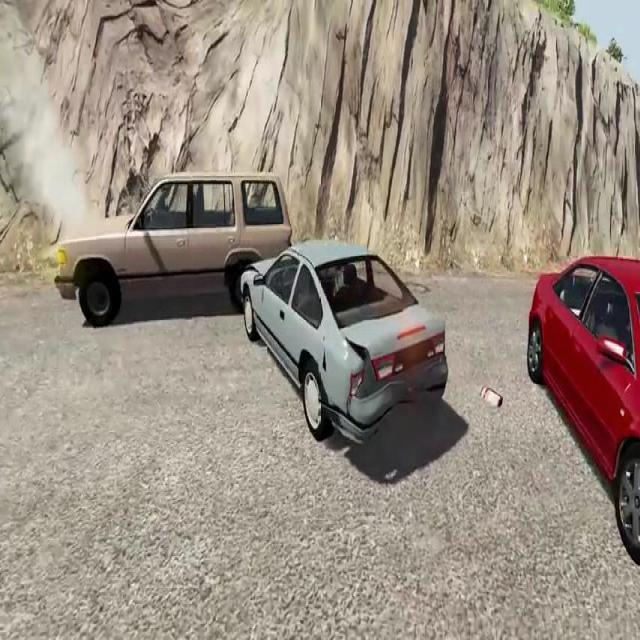vehicle: (214, 212, 472, 444)
